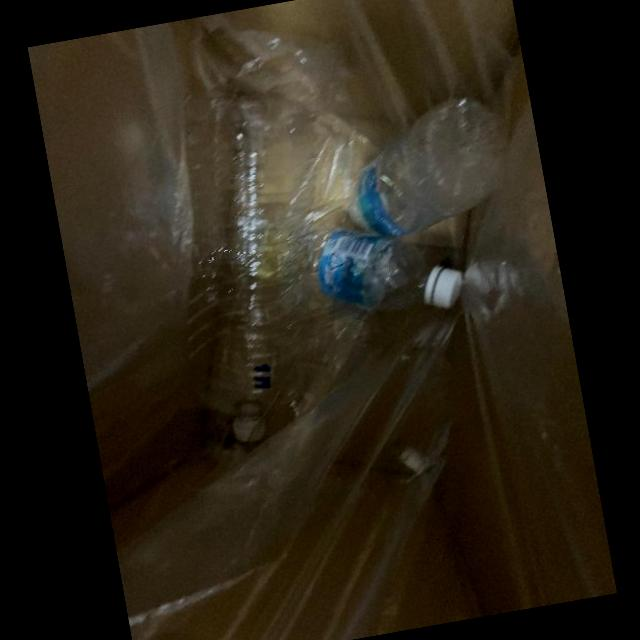chai_nhua_pet: (183, 82, 316, 443), (349, 96, 507, 235), (317, 231, 462, 311)
